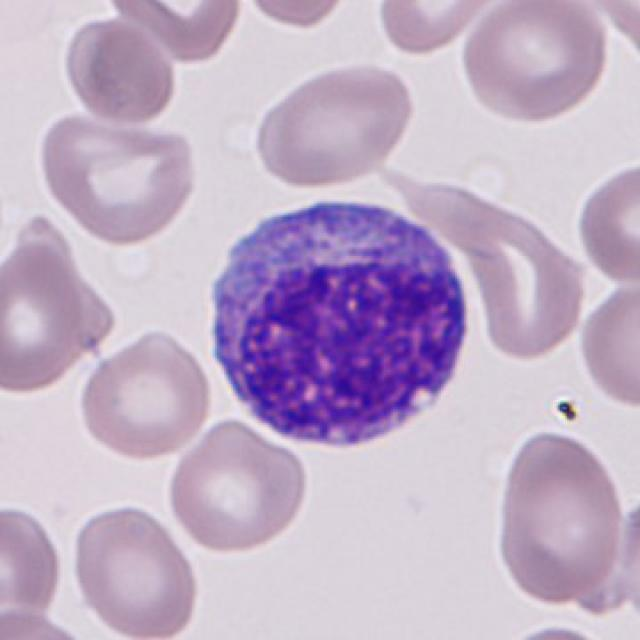Lymphocyte: (199, 187, 480, 464)
RBC: (491, 425, 631, 608), (34, 110, 203, 247), (249, 59, 419, 190), (162, 416, 313, 556), (459, 0, 613, 128), (470, 203, 589, 365), (67, 499, 202, 640), (77, 326, 215, 463), (0, 224, 100, 398), (57, 14, 179, 128), (94, 0, 247, 66), (574, 274, 640, 414), (571, 156, 638, 288), (0, 500, 64, 635), (372, 0, 498, 57), (611, 481, 640, 634), (581, 0, 640, 75), (238, 0, 354, 34), (0, 608, 89, 640), (484, 619, 628, 638)
